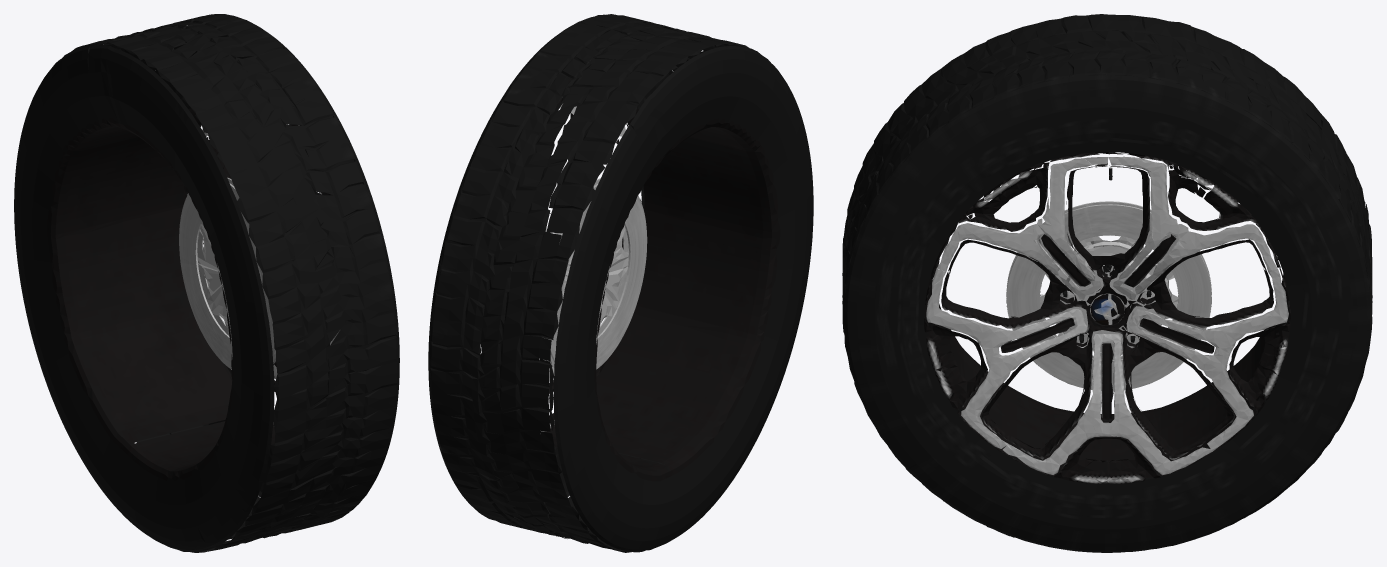
Rendered from duster_wheel_FL.glb.
3 renders of one model, left to right at view 1: azimuth 30°, elevation 25°; view 2: azimuth 150°, elevation 25°; view 3: azimuth 270°, elevation 25°, orthographic.
Visible parts, largest first — view 1: world; view 2: world; view 3: world.
Boxes of the visible parts, <box> form: world: <box>14,14,399,552</box>; world: <box>428,14,813,552</box>; world: <box>842,14,1372,552</box>.
Size of the model in its own units: 0.1572 by 0.4993 by 0.499.
Materials: 1 (1 with a texture image).
